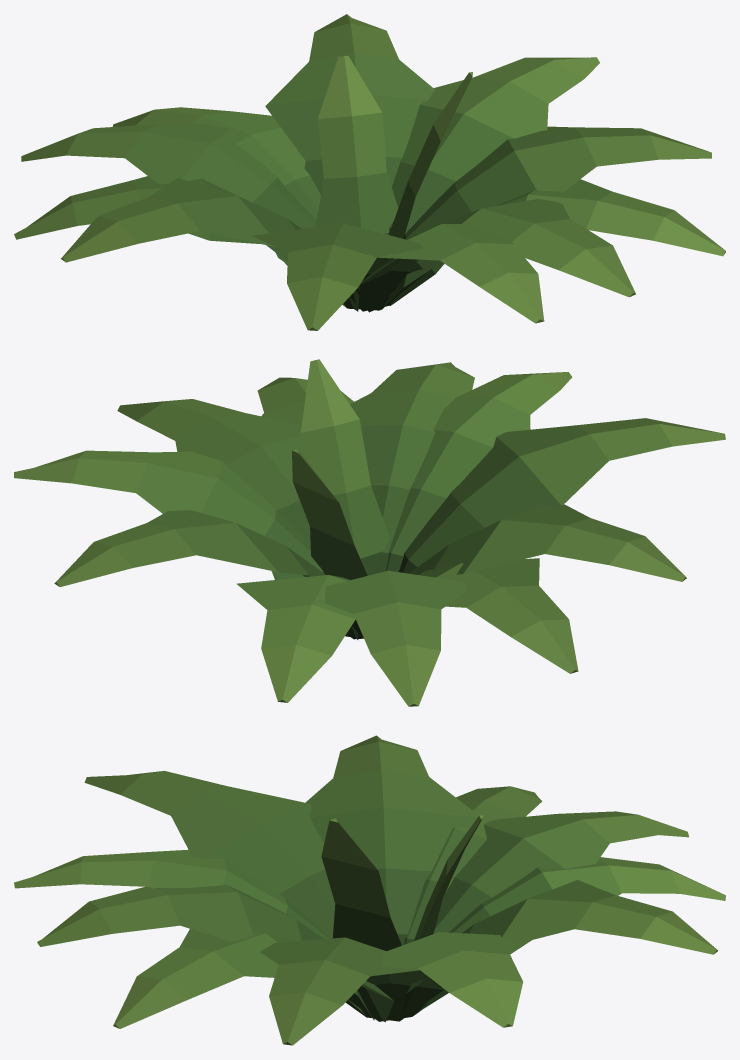
Rendered from CreekFern1_leaf.glb.
3 renders of one model, top to bottom at view 1: azimuth 30°, elevation 25°; view 2: azimuth 150°, elevation 25°; view 3: azimuth 270°, elevation 25°, orthographic.
Parts seen in each view (by area): view 1: CreekFern1_leaf; view 2: CreekFern1_leaf; view 3: CreekFern1_leaf.
Part boxes in pixels (x1,y1,x2,y2): CreekFern1_leaf: (14, 14, 725, 330); CreekFern1_leaf: (14, 359, 725, 706); CreekFern1_leaf: (14, 735, 725, 1045).
Size of the model in its own units: 4.08 by 1.48 by 4.15.
